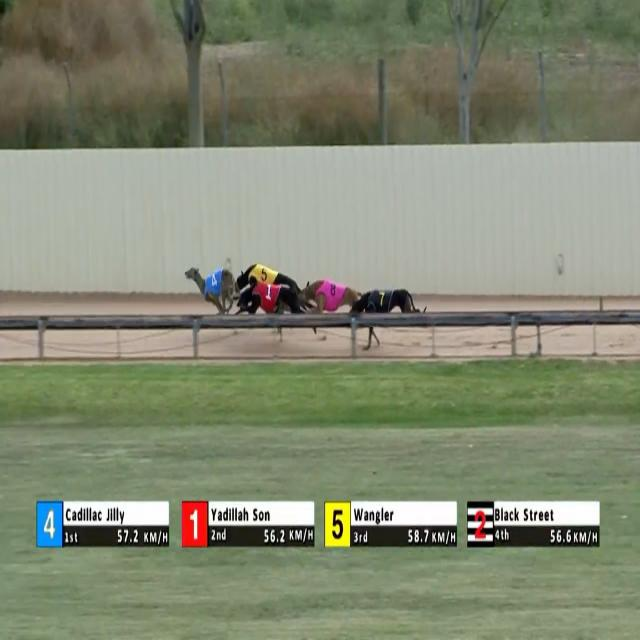dog_eight: (320, 280, 343, 306)
dog_five: (257, 263, 273, 286)
dog_four: (206, 265, 228, 301)
dog_one: (260, 283, 277, 309)
dog_seven: (374, 289, 390, 315)
